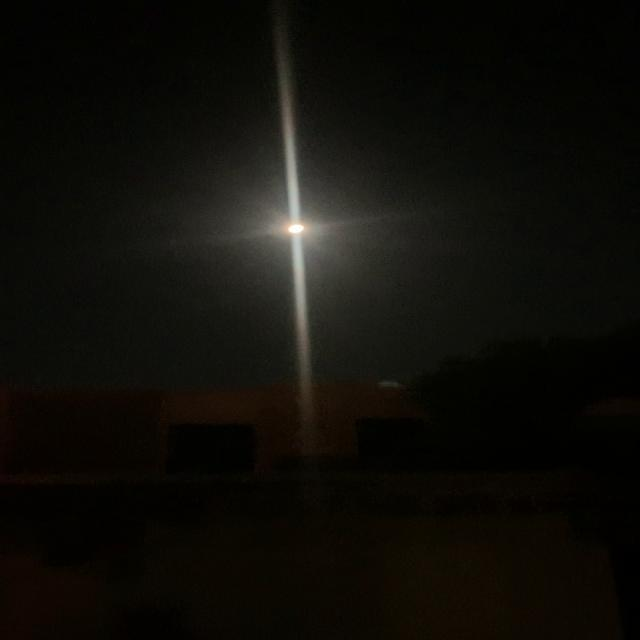moon: (270, 216, 314, 243)
